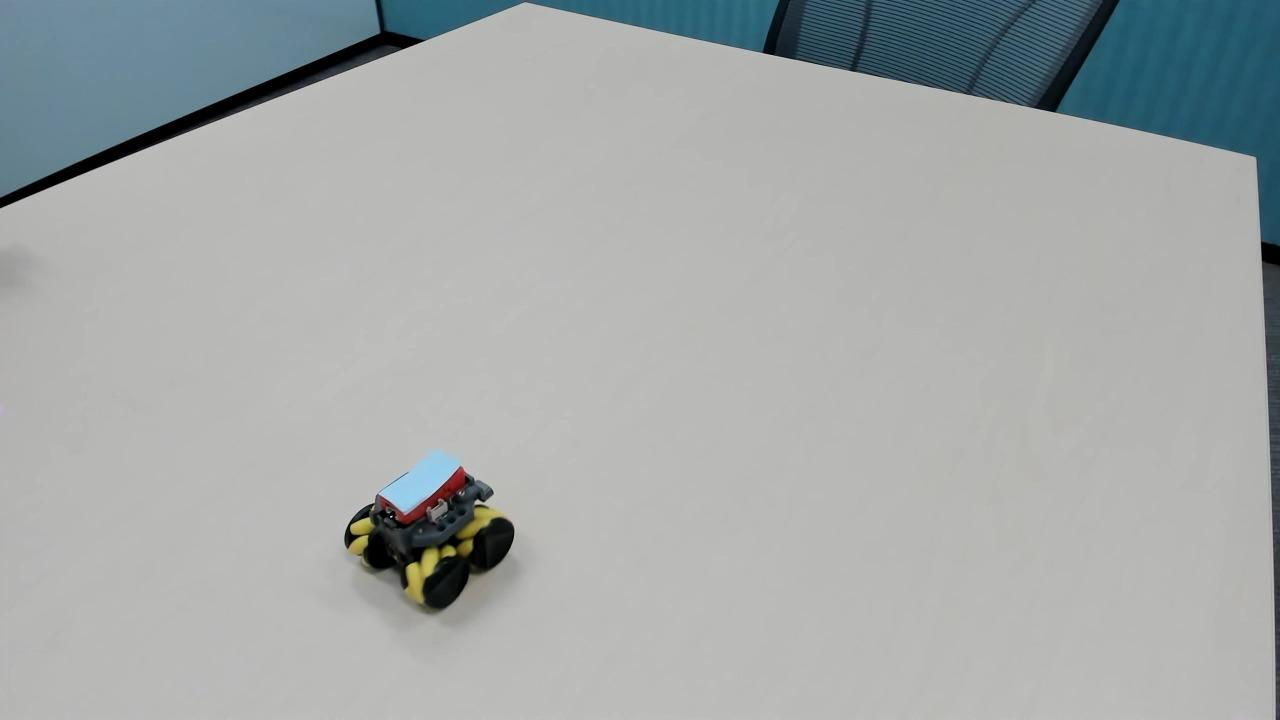B-Robot: (322, 435, 525, 624)
